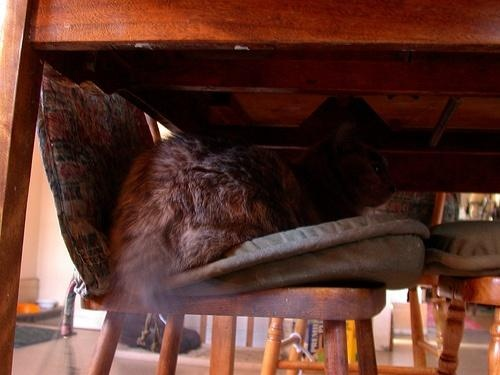cat: (110, 124, 396, 301)
chair: (38, 62, 388, 375), (438, 277, 500, 375)
diningtable: (2, 2, 500, 375)
